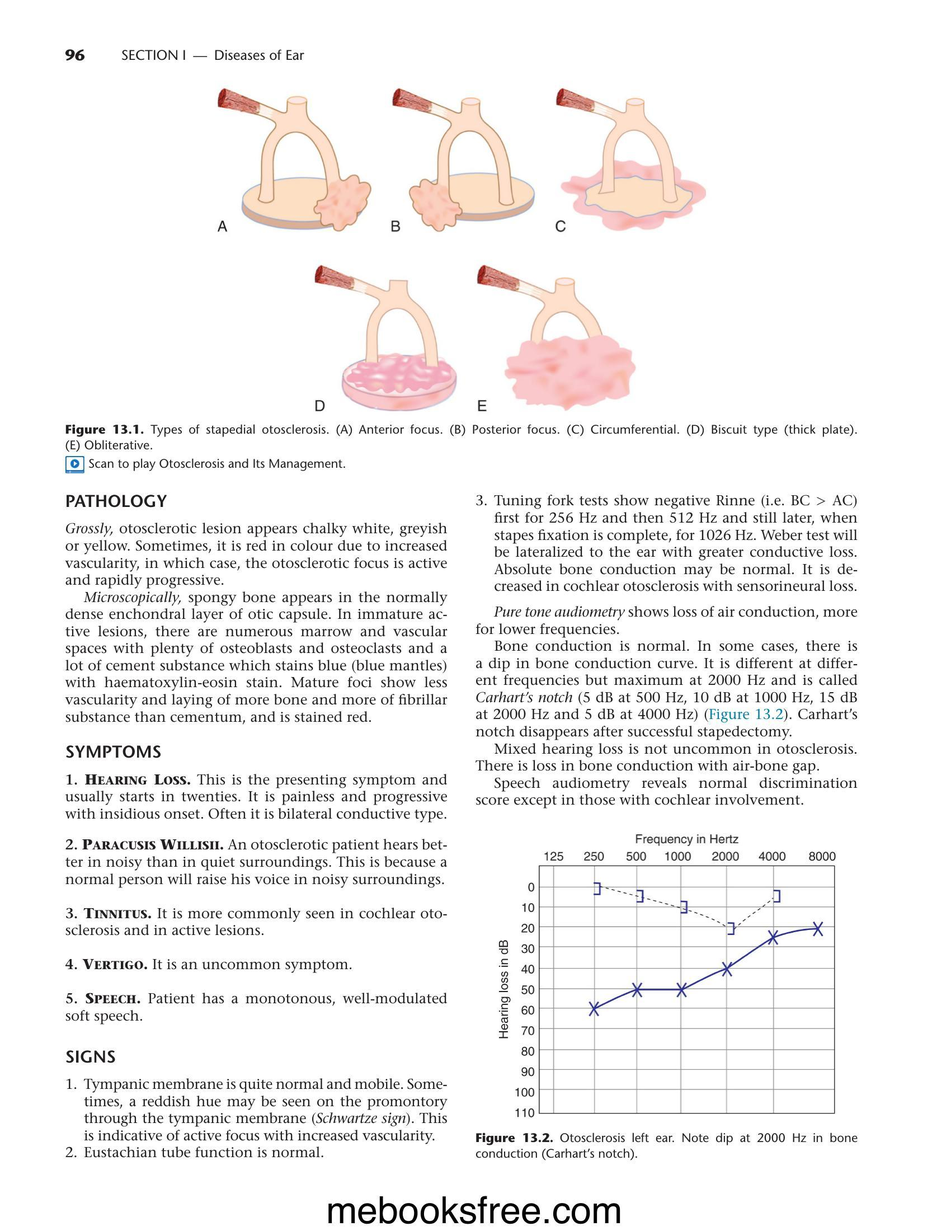caption: (63, 422, 858, 475), (475, 1131, 858, 1161), (554, 219, 568, 233), (216, 219, 229, 233), (476, 399, 489, 412), (390, 219, 402, 233), (314, 398, 326, 412)
header: (120, 48, 306, 61)
image: (479, 819, 850, 1128), (468, 258, 642, 418), (547, 86, 715, 238), (210, 86, 376, 238), (305, 259, 463, 418), (381, 86, 541, 238)
list: (63, 772, 448, 1026), (475, 492, 858, 592), (64, 1076, 450, 1160)
sub-section-heading: (65, 743, 162, 760), (65, 493, 167, 509), (64, 1048, 116, 1064)
text: (473, 605, 858, 810), (64, 521, 448, 725)
